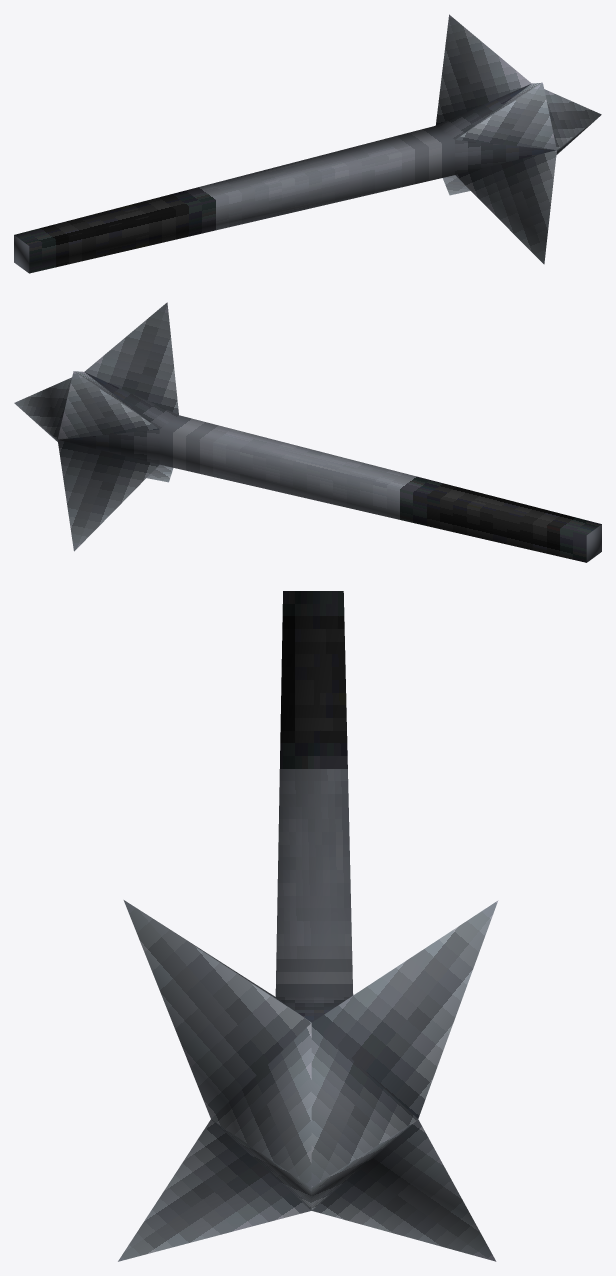
3 renders of one model, top to bottom at view 1: azimuth 30°, elevation 25°; view 2: azimuth 150°, elevation 25°; view 3: azimuth 270°, elevation 25°, orthographic. The views are drawn at different scales.
Visible parts, largest first — view 1: it19; view 2: it19; view 3: it19.
Part boxes in pixels (<box>): it19: <box>14,14,601,273</box>; it19: <box>14,302,601,562</box>; it19: <box>118,591,498,1261</box>.
Bounding box in the file's own units: 2.21 × 0.6608 × 0.6293.
3 materials, 3 textured.
